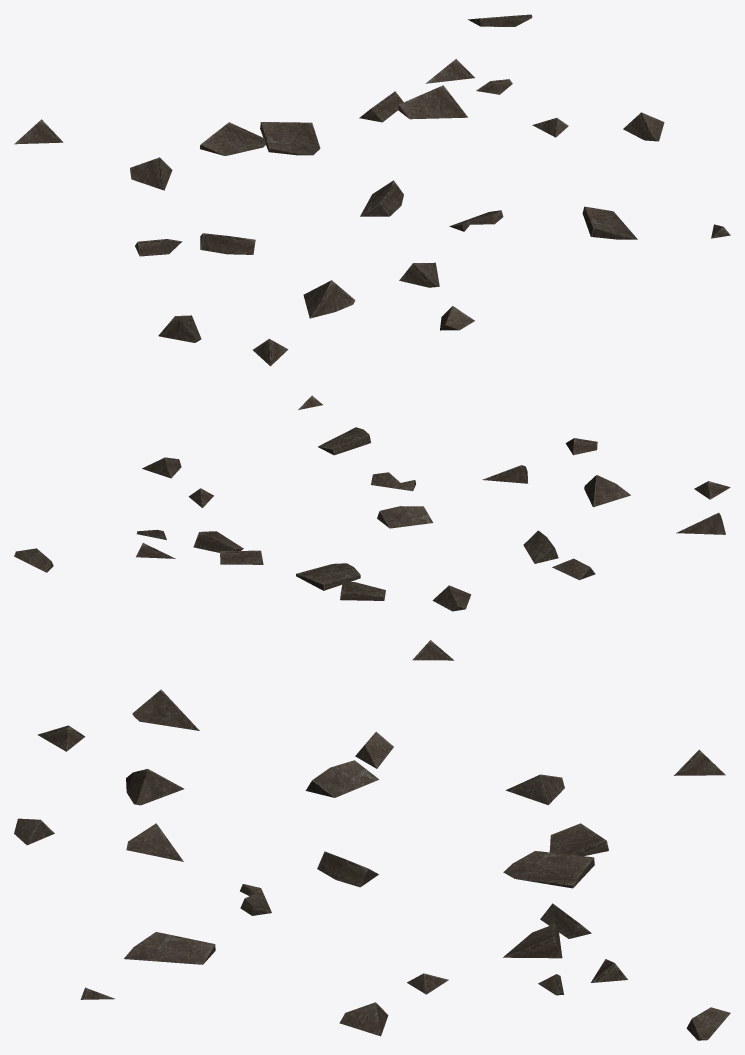
Rendered from debris_bricks_mx_1_0.glb.
3 renders of one model, top to bottom at view 1: azimuth 30°, elevation 25°; view 2: azimuth 150°, elevation 25°; view 3: azimuth 270°, elevation 25°, orthographic. The views are drawn at different scales.
Visible parts, largest first — view 1: debris_bricks_mx_1_0; view 2: debris_bricks_mx_1_0; view 3: debris_bricks_mx_1_0.
Boxes of the visible parts, x1,y1,x2,y2 form: debris_bricks_mx_1_0: [14, 14, 730, 366]; debris_bricks_mx_1_0: [14, 395, 730, 660]; debris_bricks_mx_1_0: [14, 689, 730, 1040].
Bounding box in the file's own units: 1.88 × 0.0701 × 1.69.
1 material, 1 textured.
